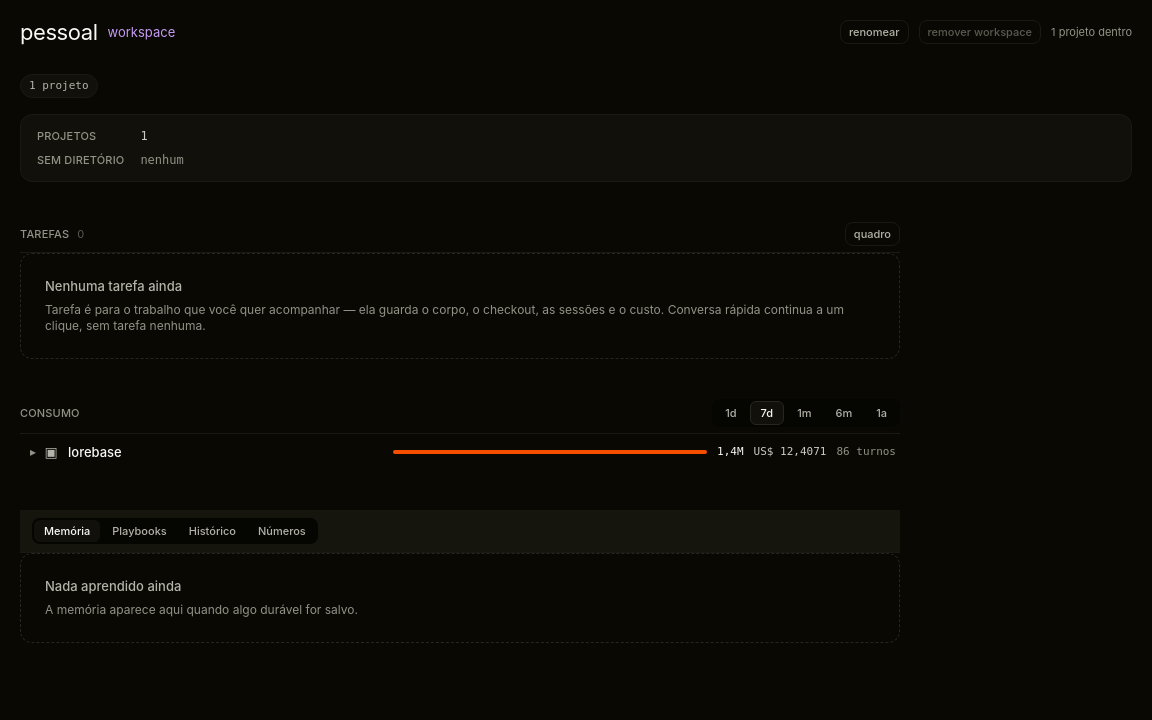
Test: a divisão por agente › o turno sem agente aparece pelo que ele é, e não somado a alguém
This screenshot has width=1152, height=720.
What coordinates should you click on to do the following:
click the button named "abrir a divisão"
I would click on:
 (30, 452)
Its box is [24, 442, 36, 462].
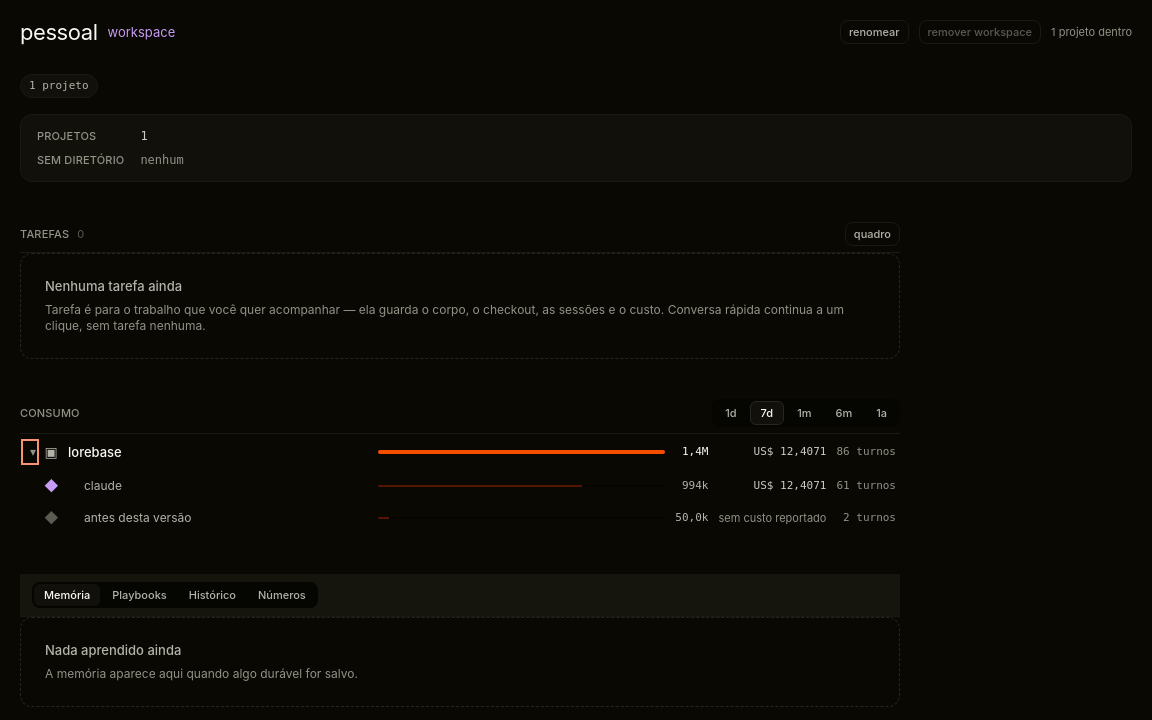
Expected: the text "antes desta versão" is shown, [84, 510, 191, 525]
Expected: the text "50,0k" is shown, [675, 510, 708, 526]
